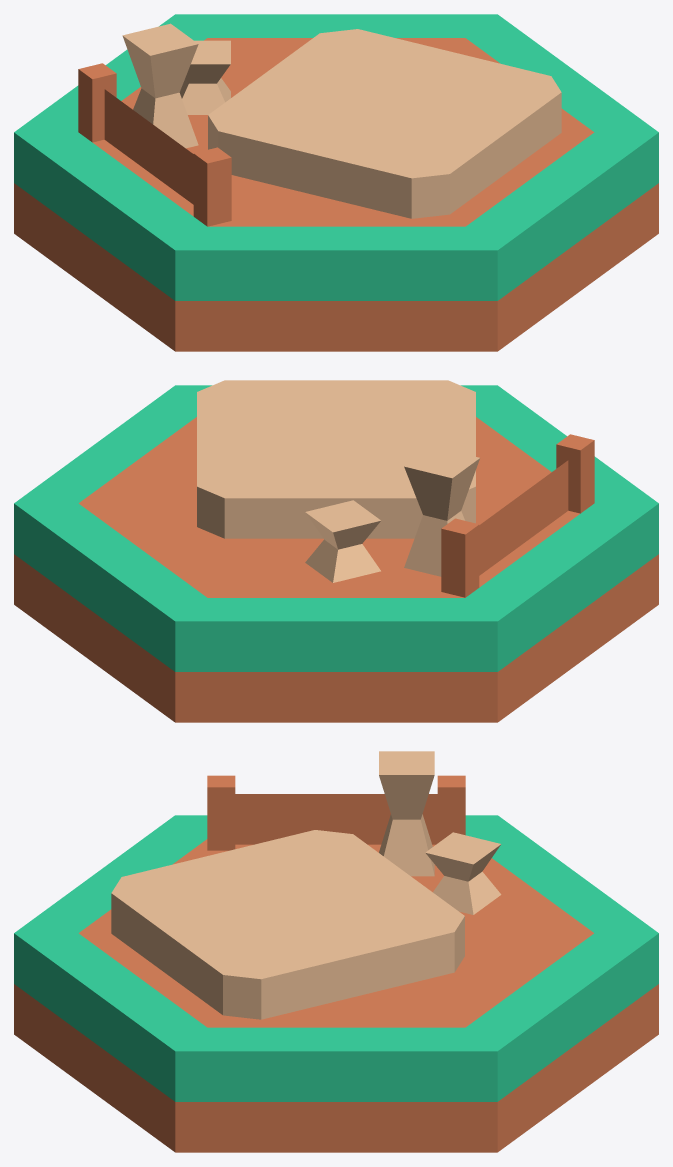
Rendered from Building Farm.glb.
3 views of the same model, one above another, from view 1: azimuth 30°, elevation 25°; view 2: azimuth 150°, elevation 25°; view 3: azimuth 270°, elevation 25° (orthographic).
Visible parts, largest first — view 1: building_farm, grain, fence, grainBundle, grainBundle.001; view 2: building_farm, grain, fence, grainBundle, grainBundle.001; view 3: building_farm, grain, fence, grainBundle, grainBundle.001.
Part boxes in pixels (x1=…): building_farm: x1=14, y1=14, x2=658, y2=351; grain: x1=208, y1=29, x2=561, y2=218; fence: x1=78, y1=63, x2=231, y2=226; grainBundle: x1=122, y1=23, x2=198, y2=148; grainBundle.001: x1=179, y1=40, x2=230, y2=114; building_farm: x1=14, y1=385, x2=658, y2=722; grain: x1=197, y1=380, x2=475, y2=538; fence: x1=441, y1=434, x2=594, y2=597; grainBundle: x1=404, y1=446, x2=479, y2=576; grainBundle.001: x1=305, y1=500, x2=381, y2=582; building_farm: x1=14, y1=815, x2=658, y2=1152; grain: x1=111, y1=830, x2=464, y2=1019; fence: x1=207, y1=775, x2=465, y2=850; grainBundle: x1=379, y1=751, x2=434, y2=876; grainBundle.001: x1=425, y1=832, x2=501, y2=914.
Bounding box in the file's own units: 1 × 0.4 × 1.15.
